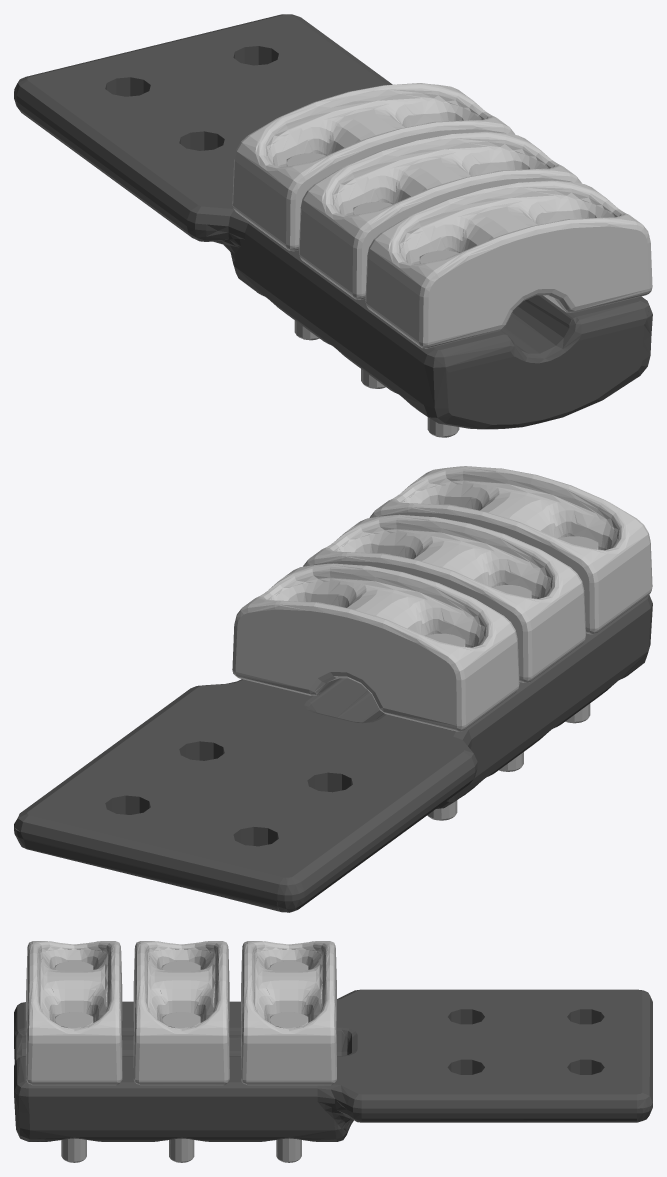
File: ensamble_conector.gltf
3 views of the same model, one above another, from view 1: azimuth 30°, elevation 25°; view 2: azimuth 150°, elevation 25°; view 3: azimuth 270°, elevation 25° (orthographic). The views are drawn at different scales.
Parts seen in each view (by area): view 1: Rc2P4A, Pisacable M45 V2, Tornillo 3-8 2; view 2: Rc2P4A, Pisacable M45 V2, Tornillo 3-8 2; view 3: Rc2P4A, Pisacable M45 V2, Tornillo 3-8 2.
Boxes of the visible parts, x1,y1,x2,y2 form: Rc2P4A: (14,14,652,429); Pisacable M45 V2: (232,83,652,348); Tornillo 3-8 2: (286,121,573,437); Rc2P4A: (14,595,652,912); Pisacable M45 V2: (232,466,652,731); Tornillo 3-8 2: (310,504,598,820); Rc2P4A: (14,989,652,1141); Pisacable M45 V2: (26,941,336,1085); Tornillo 3-8 2: (55,961,308,1162).
Size of the model in its own units: 2.25 by 1.55 by 5.35.
Materials: 3 (2 with a texture image).
